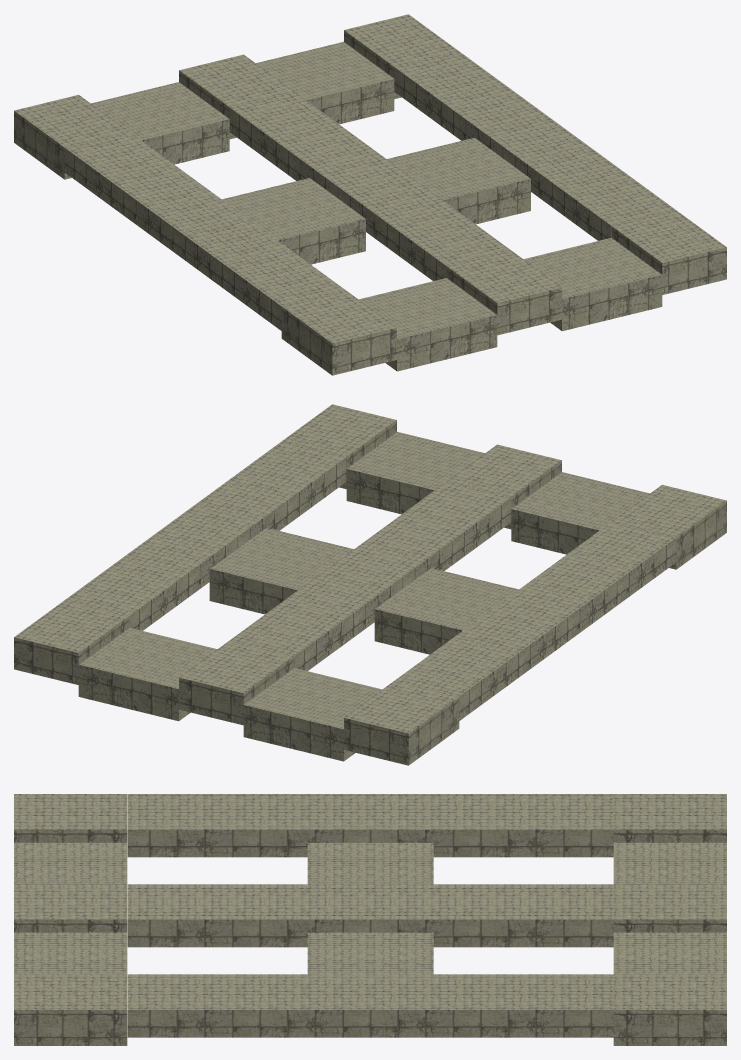
Rendered from SM_Corridor_05_02.fbx.
3 views of the same model, one above another, from view 1: azimuth 30°, elevation 25°; view 2: azimuth 150°, elevation 25°; view 3: azimuth 270°, elevation 25° (orthographic). The views are drawn at different scales.
Parts seen in each view (by area): view 1: SM_Corridor_05_02; view 2: SM_Corridor_05_02; view 3: SM_Corridor_05_02.
Part boxes in pixels (bbox=[...]): SM_Corridor_05_02: bbox=[14, 14, 726, 375]; SM_Corridor_05_02: bbox=[14, 404, 726, 765]; SM_Corridor_05_02: bbox=[14, 794, 726, 1045].
Bounding box in the file's own units: 6280 × 666 × 8773.
